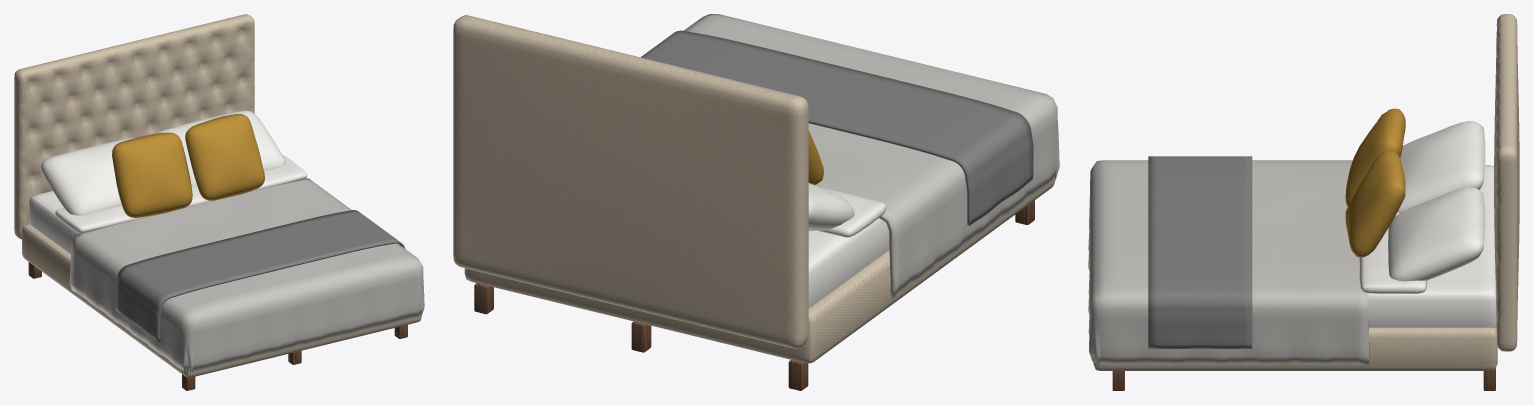
File: cama_capitone_150.glb
The picture shows the model from 3 angles, left to right: view 1: azimuth 30°, elevation 25°; view 2: azimuth 150°, elevation 25°; view 3: azimuth 270°, elevation 25°; orthographic projection. The views are drawn at different scales.
Visible parts, largest first — view 1: cama_capitone_150; view 2: cama_capitone_150; view 3: cama_capitone_150.
Boxes of the visible parts, x1,y1,x2,y2 form: cama_capitone_150: (14, 14, 424, 390); cama_capitone_150: (453, 14, 1059, 390); cama_capitone_150: (1088, 14, 1519, 390).
Bounding box in the file's own units: 1.68 × 1.31 × 2.08.
6 materials, 6 textured.
